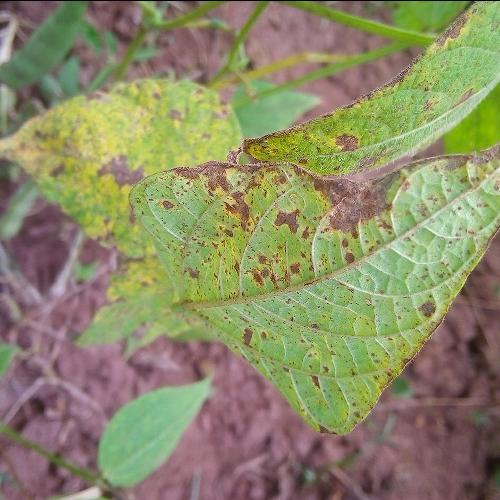hawar: (134, 108, 446, 264)
